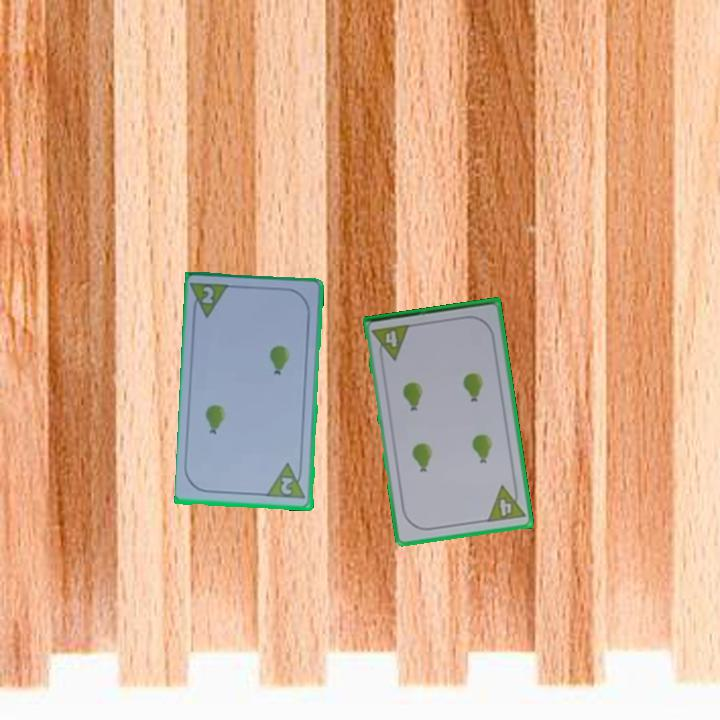2p: (265, 460, 309, 502), (198, 283, 217, 307)
4p: (484, 481, 528, 525), (369, 321, 413, 364)
